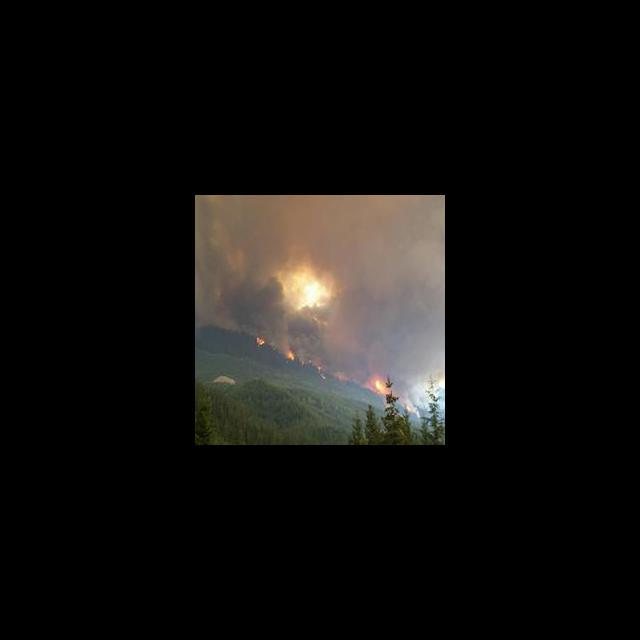Fire: (366, 376, 391, 395), (254, 334, 268, 346), (288, 350, 296, 362)
